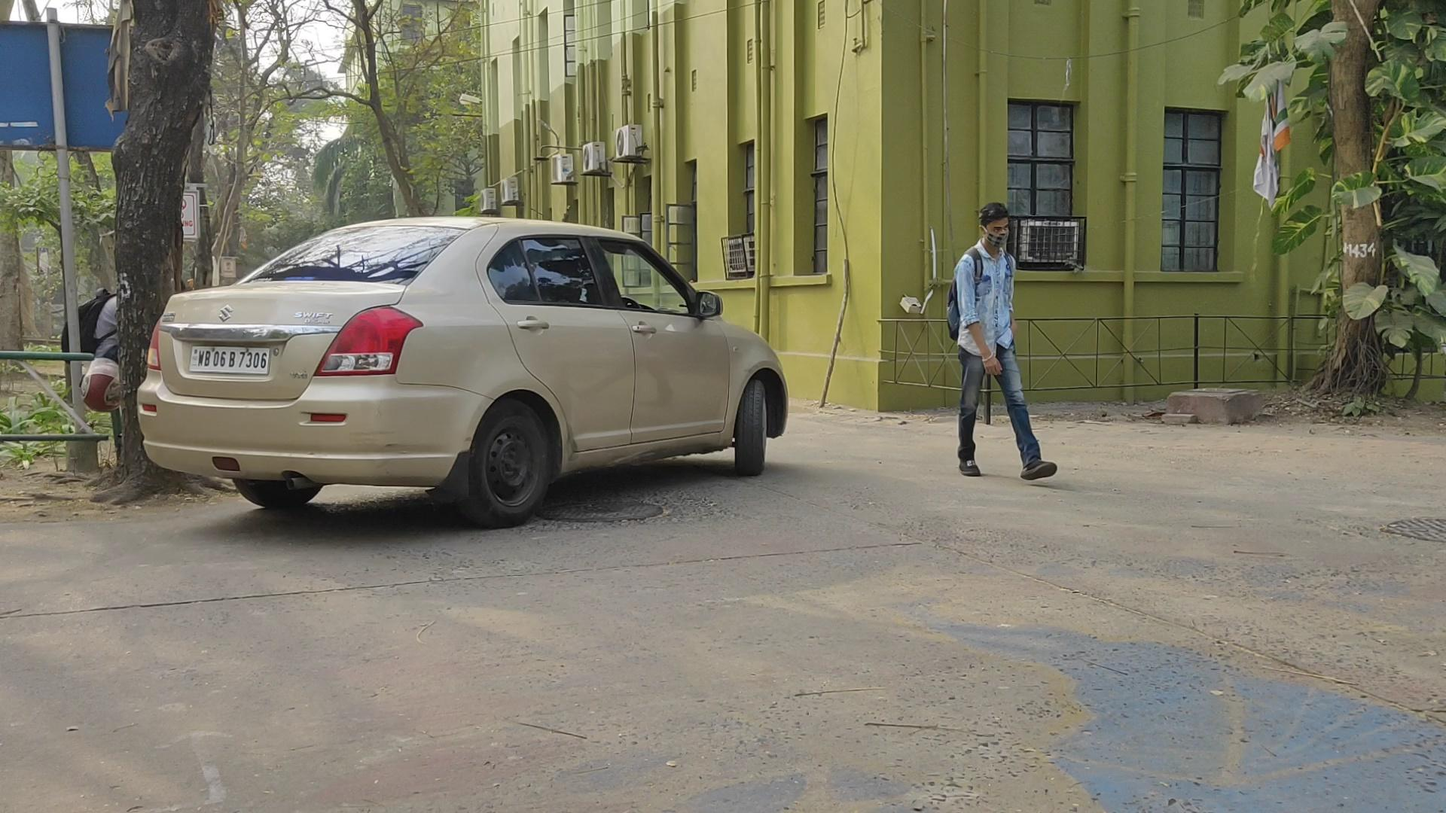car: (136, 217, 788, 531)
